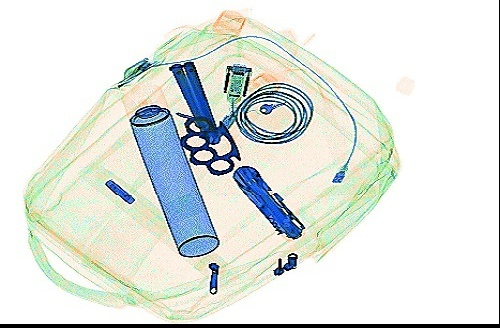knife: (230, 162, 306, 241), (165, 58, 221, 145)
pressure: (118, 81, 219, 256)
